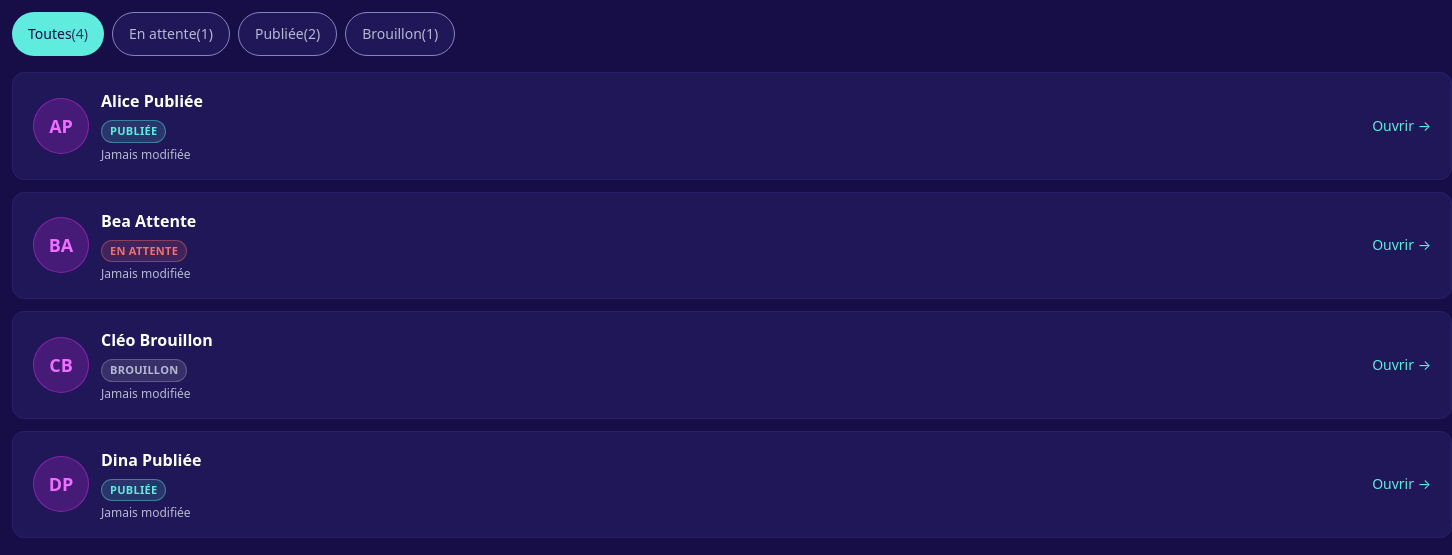
Test case: RosterFilter — vues par statut (espace orga) › filtre sur les fiches en attente de validation
Click the button "En attente (1)" at (171, 34), box [112,12,230,56]
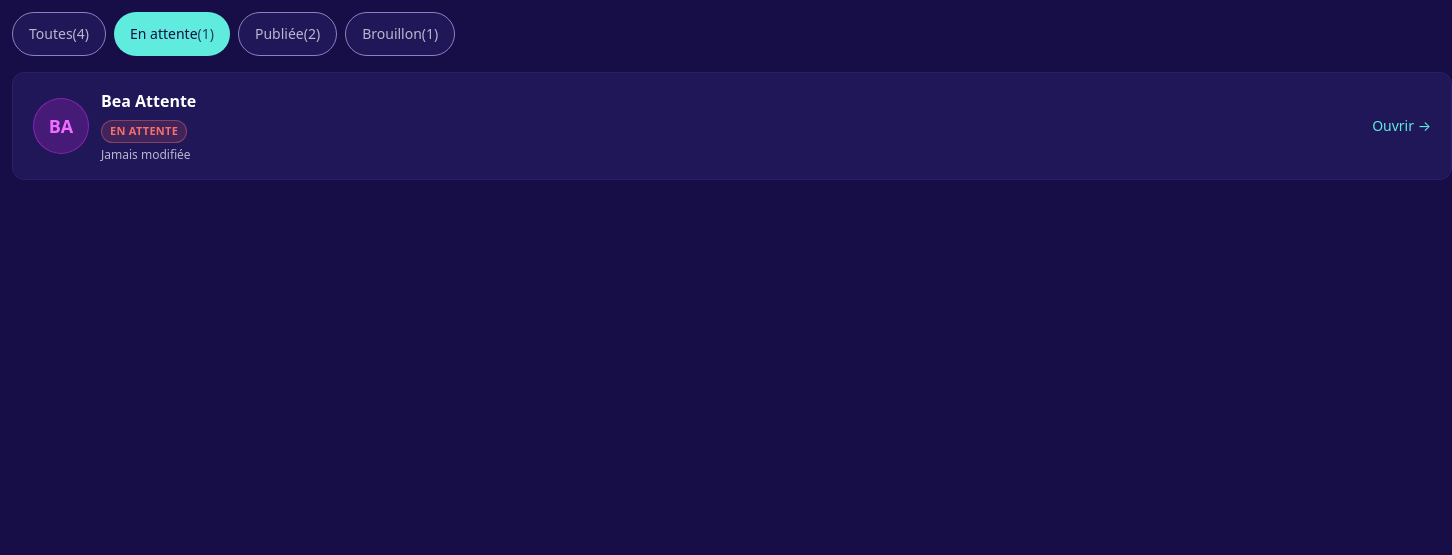
Expected: the text "Bea Attente" is shown, [101,89,196,113]
Now the link "Alice Publiée" is gone
